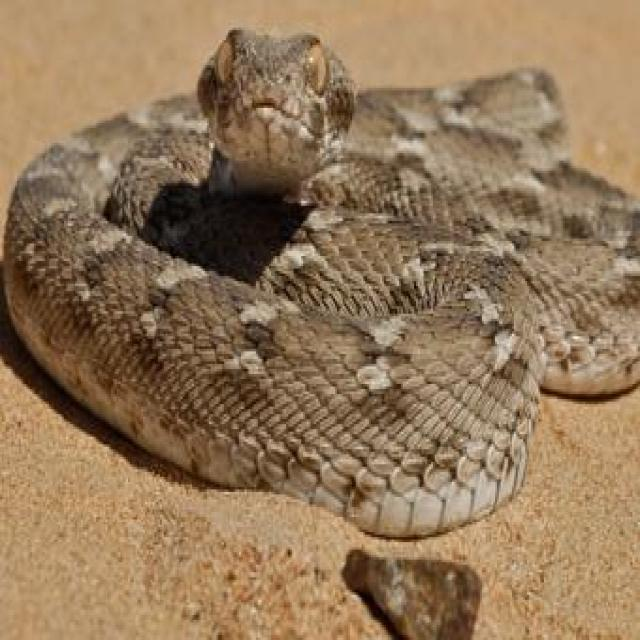Snake: (0, 22, 638, 540)
